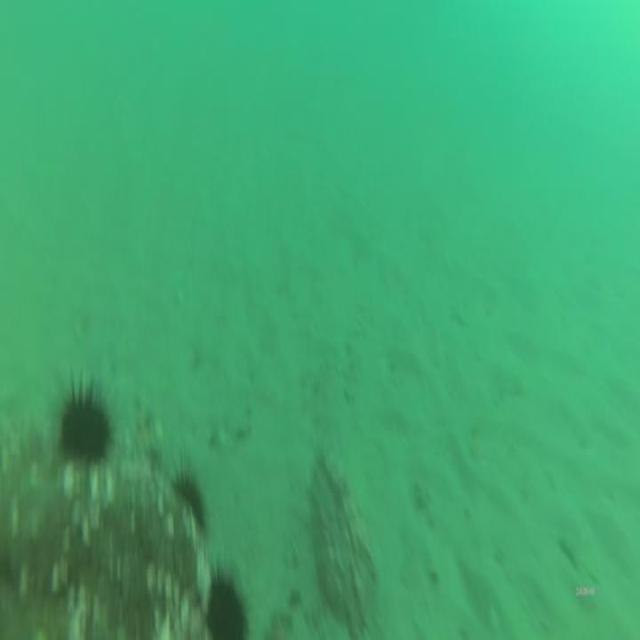echinus: (59, 389, 109, 471), (203, 572, 249, 640), (168, 471, 207, 536)
